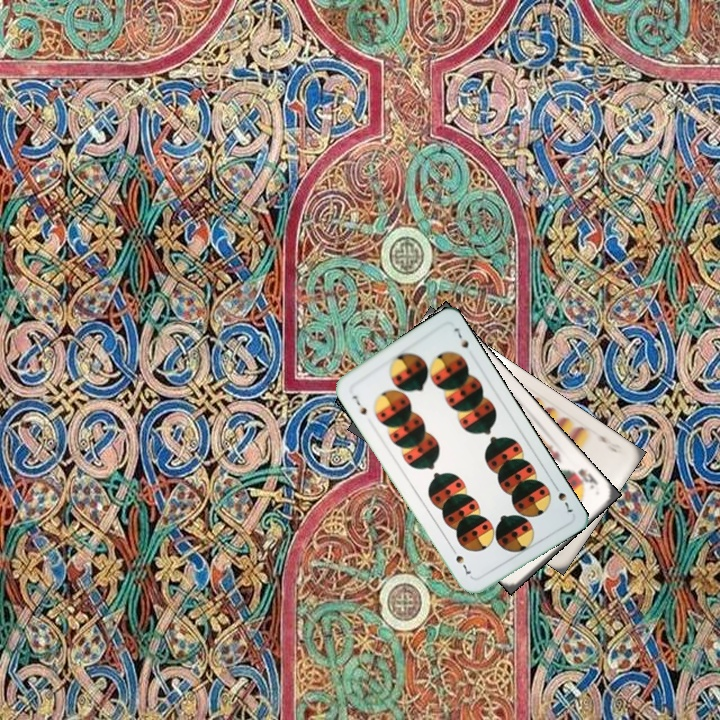E9: (592, 428, 625, 456)
S7: (549, 480, 576, 515), (348, 391, 370, 418)
SK: (566, 464, 601, 492)
